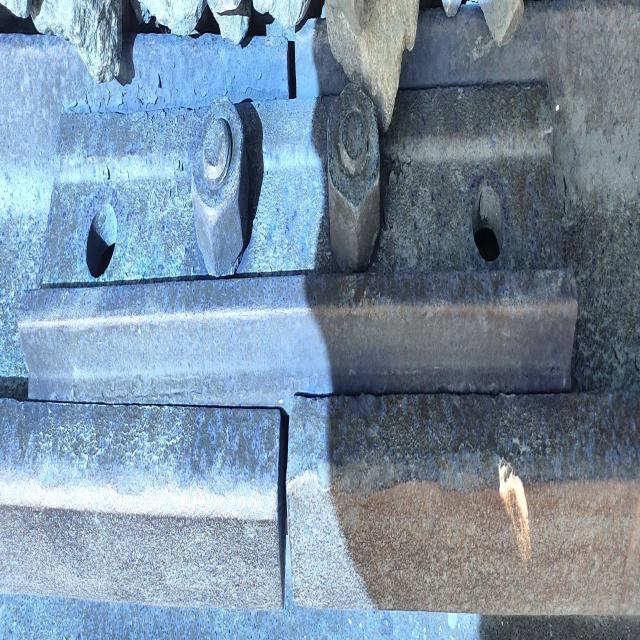Defective Joint: (15, 63, 575, 409)
